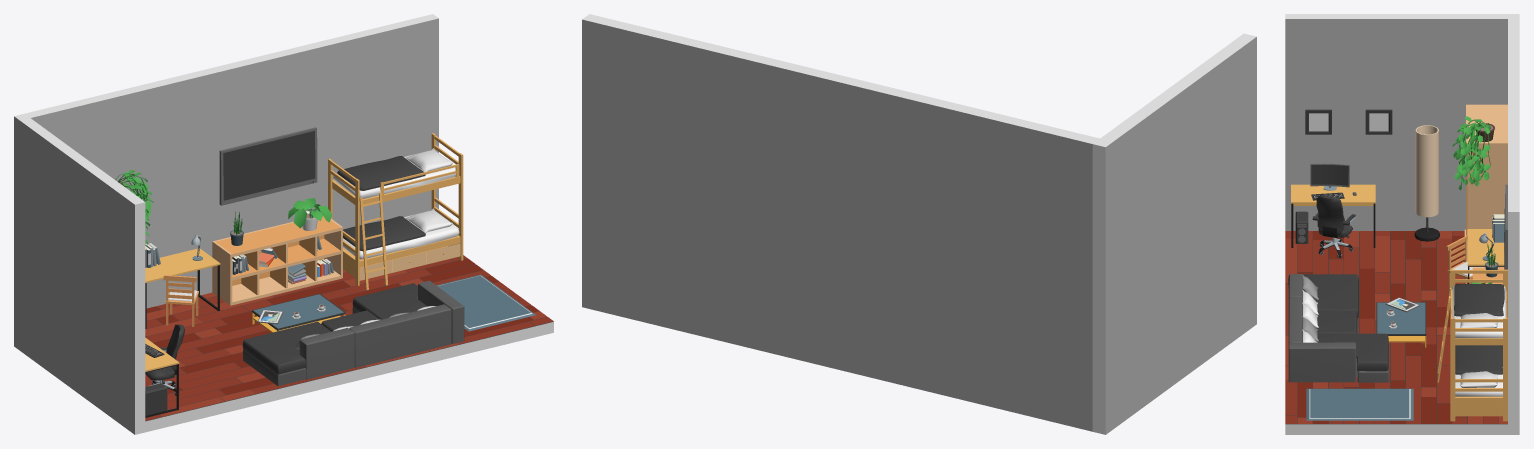
File: room_21.glb
3 renders of one model, left to right at view 1: azimuth 30°, elevation 25°; view 2: azimuth 150°, elevation 25°; view 3: azimuth 270°, elevation 25°, orthographic. The views are drawn at different scales.
Parts seen in each view (by area): view 1: Walls_192.003, Walls_192.004, sofa_028.006, bed_024.002, floor_001.032, shelf_050.002, Walls_011.019, electronics_034.010, floor_001.031, carpet_009.002, coffee_table_028.003, office_table_041.002 (+6 smaller); view 2: Walls_192.003, Walls_192.004; view 3: Walls_192.004, floor_001.032, bed_024.002, sofa_028.006, floor_001.031, Walls_192.003, closet_024.002, Walls_011.019, carpet_009.002, lamp_floor_007.005, flower_025.001, coffee_table_028.003 (+12 smaller).
Boxes of the visible parts, x1,y1,x2,y2 form: Walls_192.003: (25, 14, 438, 308); Walls_192.004: (14, 113, 145, 434); sofa_028.006: (242, 280, 464, 385); bed_024.002: (328, 133, 463, 290); floor_001.032: (145, 292, 349, 420); shelf_050.002: (212, 216, 342, 305); Walls_011.019: (145, 258, 553, 432); electronics_034.010: (219, 127, 317, 205); floor_001.031: (253, 255, 553, 370); carpet_009.002: (436, 274, 535, 331); coffee_table_028.003: (252, 293, 345, 332); office_table_041.002: (145, 248, 220, 328); Walls_192.003: (582, 14, 1099, 431); Walls_192.004: (1092, 33, 1256, 434); Walls_192.004: (1285, 14, 1519, 231); floor_001.032: (1285, 231, 1472, 327); bed_024.002: (1437, 269, 1507, 421); sofa_028.006: (1288, 274, 1389, 382); floor_001.031: (1285, 327, 1507, 423); Walls_192.003: (1508, 19, 1519, 434); closet_024.002: (1464, 104, 1507, 267); Walls_011.019: (1285, 231, 1507, 434); carpet_009.002: (1306, 388, 1413, 420); lamp_floor_007.005: (1414, 125, 1439, 241); flower_025.001: (1452, 116, 1490, 189); coffee_table_028.003: (1376, 302, 1426, 347).
Size of the model in its own units: 8 by 4.2 by 4.
1 material, 1 textured.
